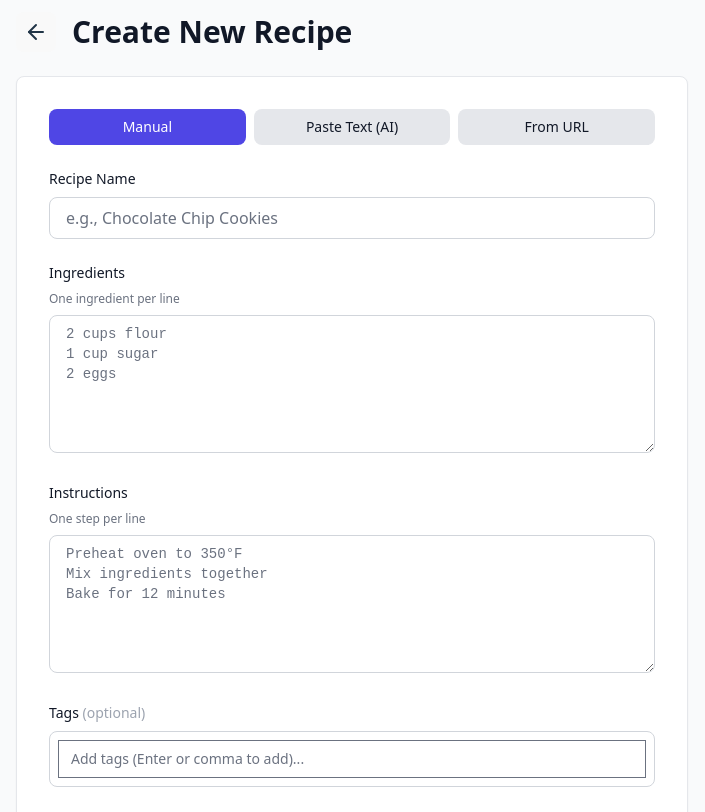
AddRecipeForm › enables Preview button after text is entered
Click the button "Paste Text (AI)".
click(352, 127)  # box [254, 109, 450, 145]
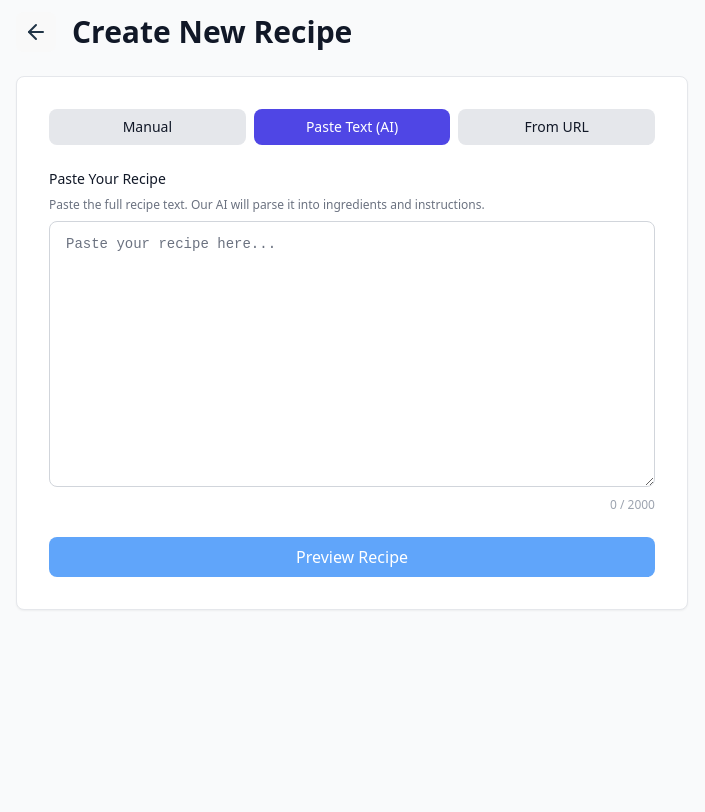
Type "Some recipe text here" into the text box labelled "Paste Your Recipe".
click(352, 354); type("Some recipe text here")  # box [49, 221, 655, 487]
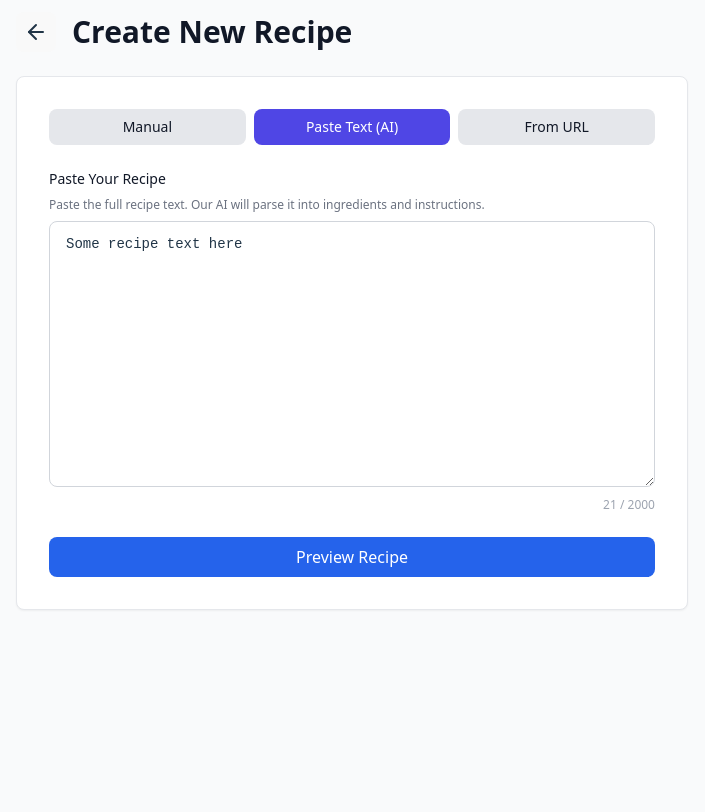
Expected: the button "Preview Recipe" is enabled, [49, 537, 655, 577]
